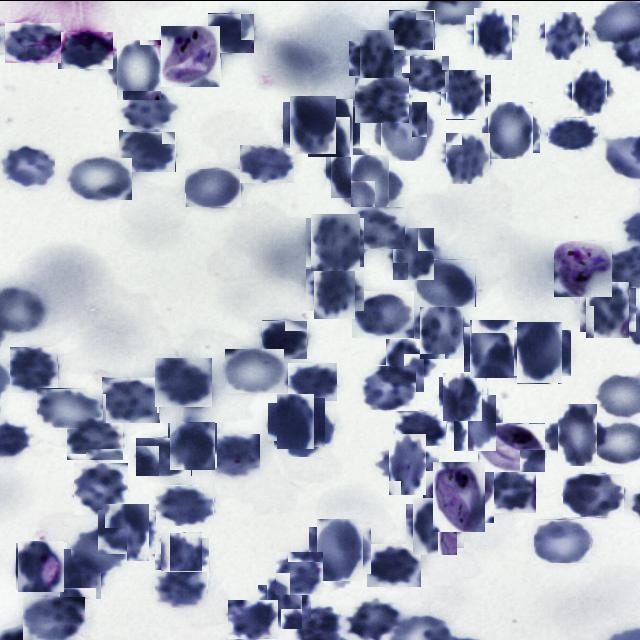red blood cell: (313, 522, 367, 576), (308, 214, 362, 268), (512, 325, 566, 379), (352, 290, 414, 337), (417, 258, 476, 306), (74, 462, 128, 514), (155, 357, 212, 406), (563, 472, 625, 516), (23, 596, 85, 640), (484, 104, 536, 156), (378, 104, 430, 156), (112, 43, 164, 95), (305, 102, 357, 154), (344, 160, 396, 212), (466, 322, 518, 374), (286, 98, 338, 150), (37, 387, 104, 427), (102, 376, 160, 422), (70, 157, 132, 199), (552, 408, 603, 459), (225, 348, 284, 392), (534, 518, 592, 562), (278, 402, 329, 452), (101, 506, 152, 556), (71, 527, 127, 572), (67, 415, 124, 459), (416, 304, 466, 354), (410, 500, 460, 550), (382, 438, 432, 488), (310, 264, 360, 314), (450, 398, 500, 448), (582, 284, 632, 334), (362, 364, 417, 409), (119, 128, 176, 171), (355, 77, 409, 122), (0, 144, 55, 188), (17, 541, 66, 590), (156, 484, 214, 525), (347, 598, 403, 640), (367, 543, 421, 586), (350, 206, 405, 248), (444, 134, 492, 182), (157, 534, 205, 582), (390, 229, 438, 277), (207, 433, 260, 476), (5, 22, 61, 62), (185, 167, 242, 206), (123, 90, 177, 131), (169, 421, 216, 468), (10, 346, 58, 392), (484, 470, 536, 512), (136, 436, 192, 475), (382, 342, 428, 388), (58, 550, 104, 596), (354, 34, 400, 80), (272, 398, 318, 444), (276, 550, 324, 594), (470, 10, 515, 56), (240, 144, 294, 182), (58, 31, 113, 68), (328, 150, 374, 194), (155, 570, 208, 608), (542, 13, 587, 57), (443, 72, 488, 116), (228, 599, 278, 638), (395, 410, 446, 448), (262, 580, 306, 624), (441, 374, 485, 418), (208, 12, 255, 52), (288, 362, 337, 400), (388, 9, 434, 49), (262, 319, 308, 358), (402, 54, 450, 91), (568, 70, 610, 112), (548, 116, 599, 149)
trophozoite: (428, 466, 489, 526), (160, 26, 220, 86), (478, 421, 546, 471), (554, 240, 612, 296)
